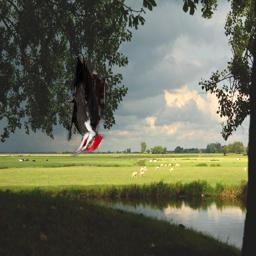Woodpecker: (65, 57, 105, 157)
